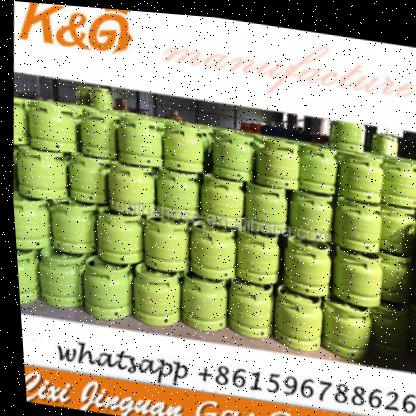gas-tank: (264, 272, 337, 358), (122, 256, 186, 338), (86, 200, 150, 274), (313, 286, 378, 357), (76, 252, 141, 322), (275, 228, 337, 299), (230, 219, 287, 296), (198, 115, 258, 187), (44, 192, 104, 263), (94, 156, 159, 221), (220, 270, 280, 339), (33, 241, 92, 311), (184, 215, 241, 287), (60, 146, 125, 209), (278, 179, 337, 248), (357, 293, 415, 363), (239, 168, 292, 241), (176, 264, 233, 331), (112, 105, 167, 174), (150, 111, 207, 177), (326, 137, 382, 204), (21, 94, 80, 157), (194, 165, 248, 232), (142, 209, 194, 278), (249, 129, 304, 194), (10, 192, 58, 265), (16, 141, 68, 206), (150, 163, 200, 227), (291, 129, 336, 200), (369, 234, 415, 303), (70, 102, 122, 163), (375, 143, 415, 212), (371, 197, 415, 256), (332, 196, 381, 248), (332, 243, 375, 298), (8, 91, 39, 160), (13, 247, 42, 314), (405, 308, 415, 372), (406, 249, 415, 315), (410, 149, 415, 212), (413, 201, 415, 268)
